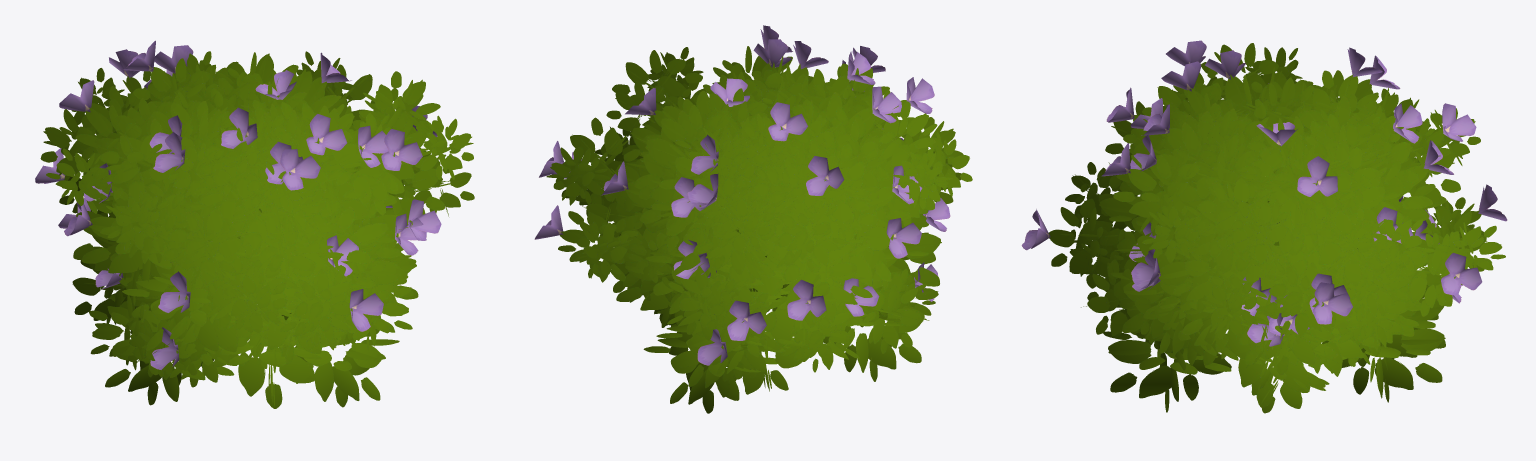
File: bush_common_flowers.glb
The picture shows the model from 3 angles, left to right: view 1: azimuth 30°, elevation 25°; view 2: azimuth 150°, elevation 25°; view 3: azimuth 270°, elevation 25°; orthographic projection. The views are drawn at different scales.
Visible parts, largest first — view 1: Bush_Common_Flowers; view 2: Bush_Common_Flowers; view 3: Bush_Common_Flowers.
Part boxes in pixels (left/top/right/bottom): Bush_Common_Flowers: left=35, top=40, right=474, bottom=408; Bush_Common_Flowers: left=534, top=25, right=972, bottom=413; Bush_Common_Flowers: left=1021, top=40, right=1507, bottom=413.
Size of the model in its own units: 1.91 by 1.58 by 1.97.
2 materials, 2 textured.
